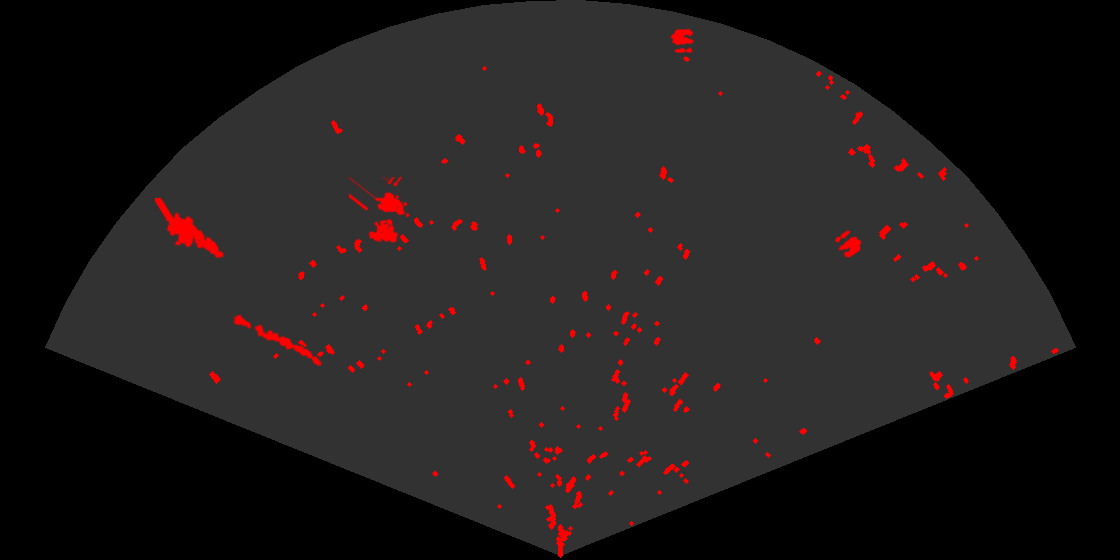ball: (834, 229, 863, 259), (669, 27, 696, 54)
cage: (349, 177, 411, 244)
chain: (228, 312, 324, 368)
frogman: (155, 198, 226, 260)
